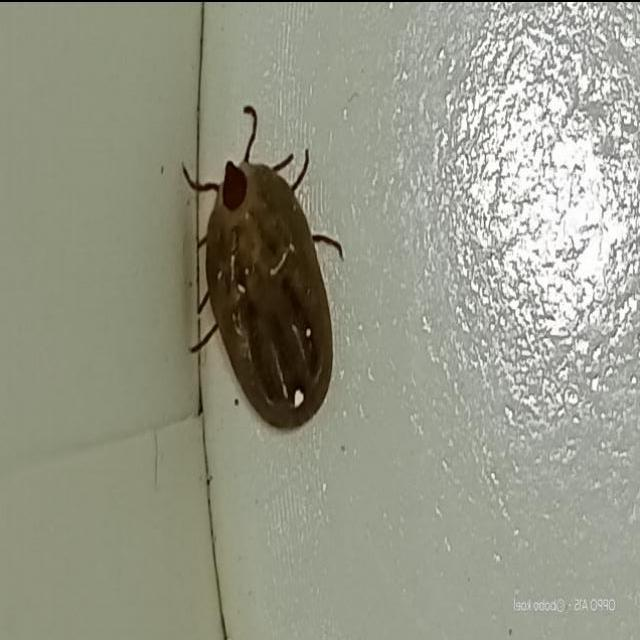Rhipicephalus Sanguineus-F-Fed: (182, 104, 344, 433)
